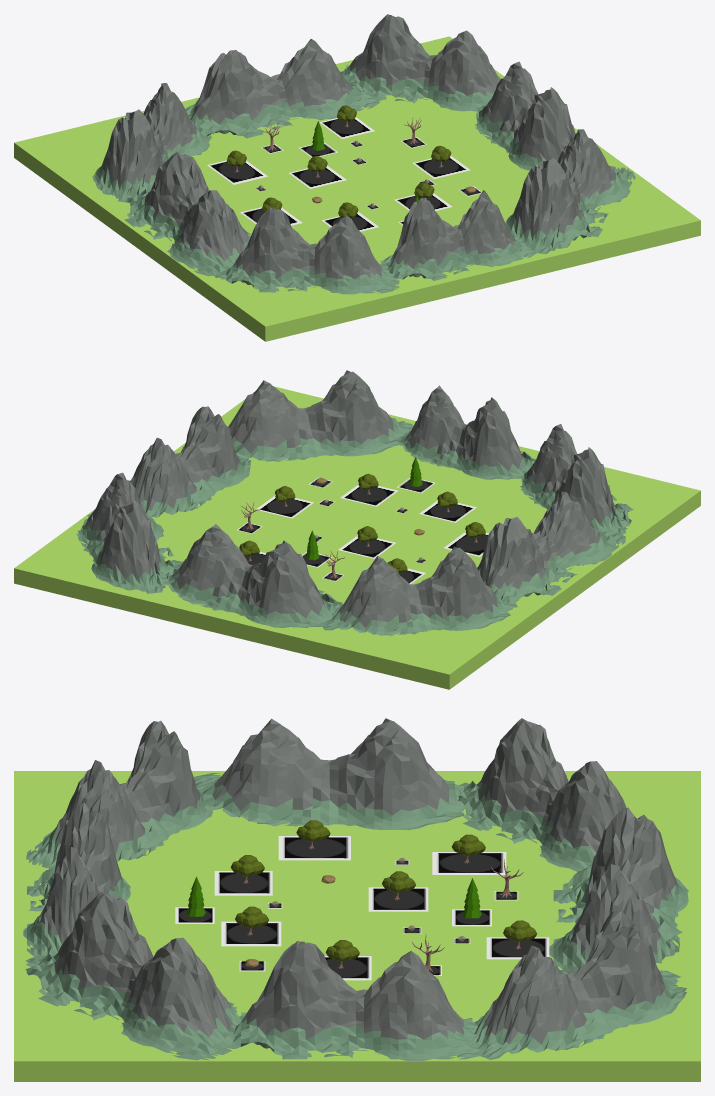
3 renders of one model, top to bottom at view 1: azimuth 30°, elevation 25°; view 2: azimuth 150°, elevation 25°; view 3: azimuth 270°, elevation 25°, orthographic. The views are drawn at different scales.
Parts seen in each view (by area): view 1: Cube, mountain.002, mountain.007, mountain.003, mountain.005, mountain, mountain.006, mountain.001, mountain.004, Shadow.002, Shadow.016, Shadow (+1 smaller); view 2: Cube, mountain.005, mountain.002, mountain.001, mountain, mountain.004, mountain.006, mountain.003, mountain.007, Shadow, Shadow.011, Shadow.016 (+2 smaller); view 3: Cube, mountain, mountain.005, mountain.004, mountain.003, mountain.001, mountain.002, mountain.007, mountain.006, Shadow.005, Shadow.002, Shadow.011 (+7 smaller).
Boxes of the visible parts, bbox=[...] form: Cube: bbox=[14, 36, 700, 341]; mountain.002: bbox=[185, 39, 379, 138]; mountain.007: bbox=[215, 207, 399, 294]; mountain.003: bbox=[340, 14, 501, 111]; mountain.005: bbox=[505, 129, 635, 253]; mountain: bbox=[124, 151, 251, 276]; mountain.006: bbox=[380, 190, 536, 280]; mountain.001: bbox=[92, 83, 214, 202]; mountain.004: bbox=[475, 61, 575, 170]; Shadow.002: bbox=[207, 160, 267, 184]; Shadow.016: bbox=[412, 155, 470, 178]; Shadow: bbox=[289, 165, 346, 188]; Cube: bbox=[14, 386, 700, 689]; mountain.005: bbox=[228, 370, 413, 461]; mountain.002: bbox=[162, 524, 342, 627]; mountain.001: bbox=[321, 546, 517, 636]; mountain: bbox=[477, 491, 625, 602]; mountain.004: bbox=[130, 406, 251, 517]; mountain.006: bbox=[394, 385, 535, 479]; mountain.003: bbox=[76, 472, 180, 593]; mountain.007: bbox=[520, 424, 633, 534]; Shadow: bbox=[338, 535, 395, 558]; Shadow.011: bbox=[340, 484, 398, 506]; Shadow.016: bbox=[256, 495, 313, 518]; Cube: bbox=[14, 771, 700, 1081]; mountain: bbox=[193, 718, 465, 830]; mountain.005: bbox=[25, 892, 249, 1060]; mountain.004: bbox=[232, 941, 480, 1060]; mountain.003: bbox=[469, 911, 686, 1059]; mountain.001: bbox=[457, 718, 626, 871]; mountain.002: bbox=[549, 807, 688, 974]; mountain.007: bbox=[26, 720, 212, 868]; mountain.006: bbox=[23, 802, 130, 956]; Shadow.005: bbox=[278, 836, 350, 860]; Shadow.002: bbox=[432, 852, 506, 874]; Shadow.011: bbox=[221, 921, 281, 946].
Bounding box in the file's own units: 30000 × 5360 × 30000.
